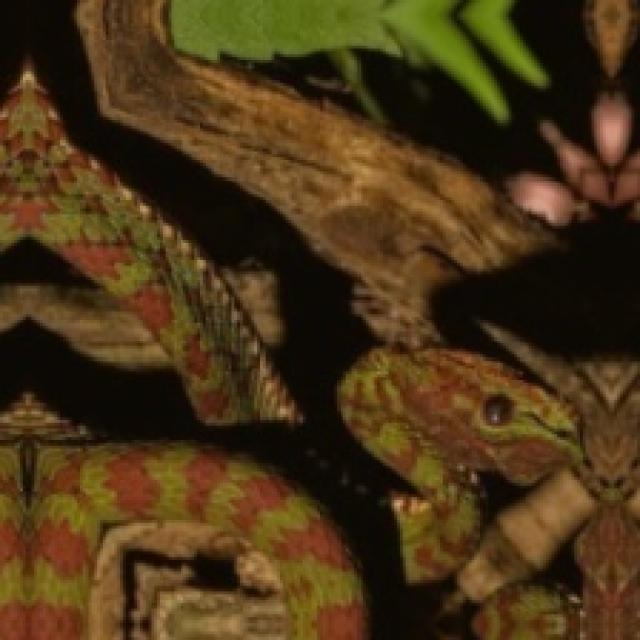philippine pitviper: (0, 70, 579, 640)
